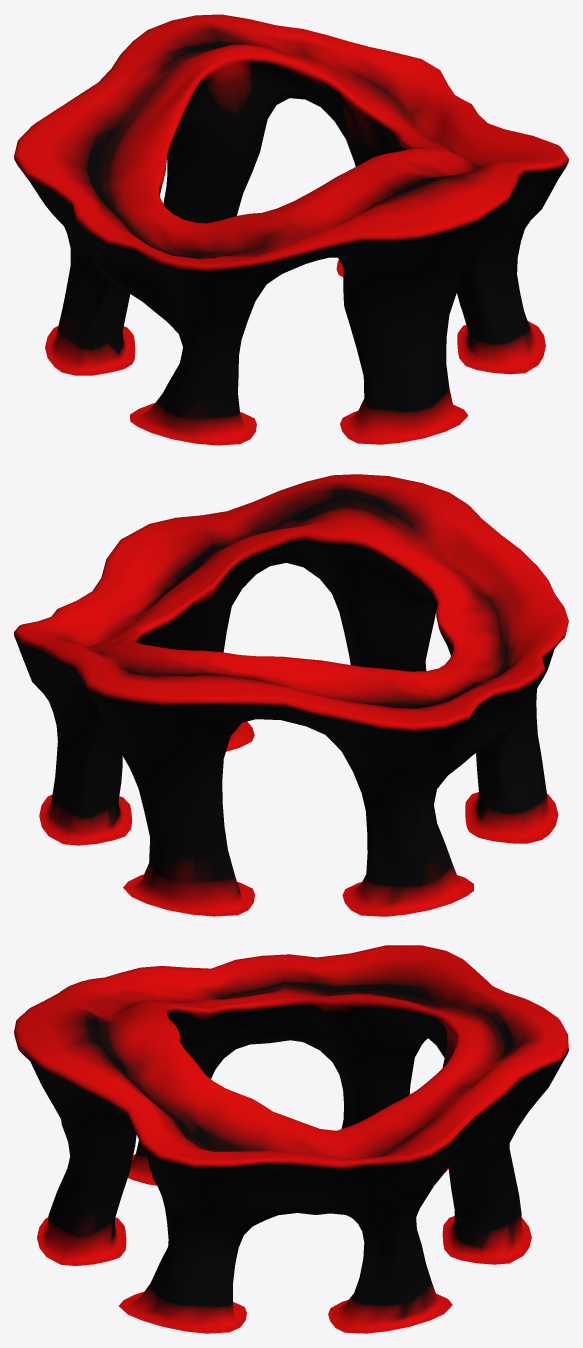
The model's file is GroundObject10B.fbx.
The picture shows the model from 3 angles, top to bottom: view 1: azimuth 30°, elevation 25°; view 2: azimuth 150°, elevation 25°; view 3: azimuth 270°, elevation 25°; orthographic projection. The views are drawn at different scales.
Parts seen in each view (by area): view 1: GroundObject10B; view 2: GroundObject10B; view 3: GroundObject10B.
Part boxes in pixels (box(x1,y1,x2,y2)): GroundObject10B: box(14, 14, 568, 445); GroundObject10B: box(14, 474, 568, 916); GroundObject10B: box(14, 945, 568, 1333).
Size of the model in its own units: 4.71 by 2.38 by 5.25.
